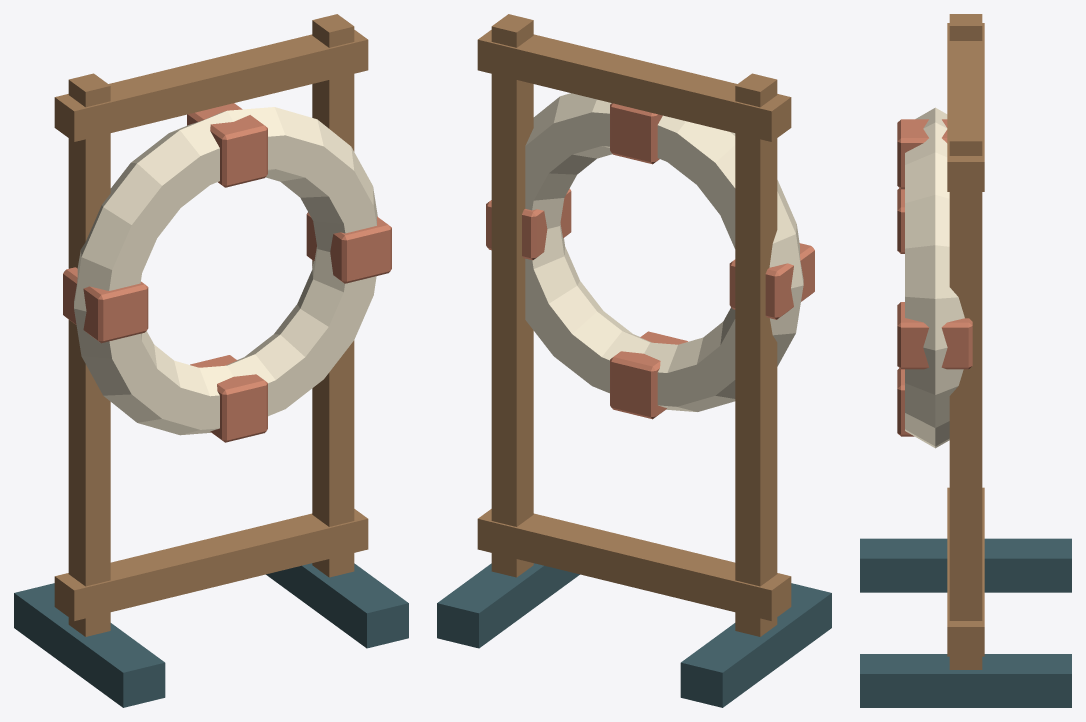
The model's file is AC_Lifering_Stand.glb.
3 renders of one model, left to right at view 1: azimuth 30°, elevation 25°; view 2: azimuth 150°, elevation 25°; view 3: azimuth 270°, elevation 25°, orthographic. The views are drawn at different scales.
Visible parts, largest first — view 1: AC_Lifering_Stand; view 2: AC_Lifering_Stand; view 3: AC_Lifering_Stand.
Boxes of the visible parts, <box> form: AC_Lifering_Stand: <box>14,14,408,707</box>; AC_Lifering_Stand: <box>437,14,831,707</box>; AC_Lifering_Stand: <box>860,14,1071,707</box>.
Bounding box in the file's own units: 0.73 × 1.32 × 0.45.
